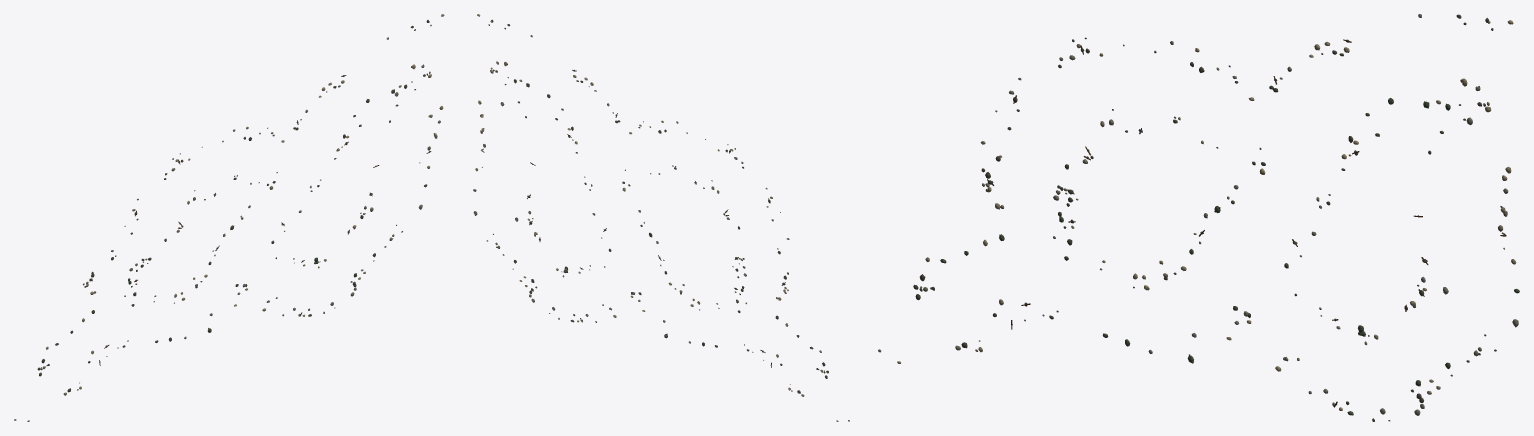
File: roadside_details.obj
The picture shows the model from 3 angles, left to right: view 1: azimuth 30°, elevation 25°; view 2: azimuth 150°, elevation 25°; view 3: azimuth 330°, elevation 25°; orthographic projection. The views are drawn at different scales.
Visible parts, largest first — view 1: roadside_details; view 2: roadside_details; view 3: roadside_details.
Boxes of the visible parts, left/top/right/bottom form: roadside_details: left=14, top=14, right=444, bottom=421; roadside_details: left=473, top=14, right=849, bottom=421; roadside_details: left=878, top=14, right=1519, bottom=421.
Bounding box in the file's own units: 55.59 × 41.59 × 4.7.
